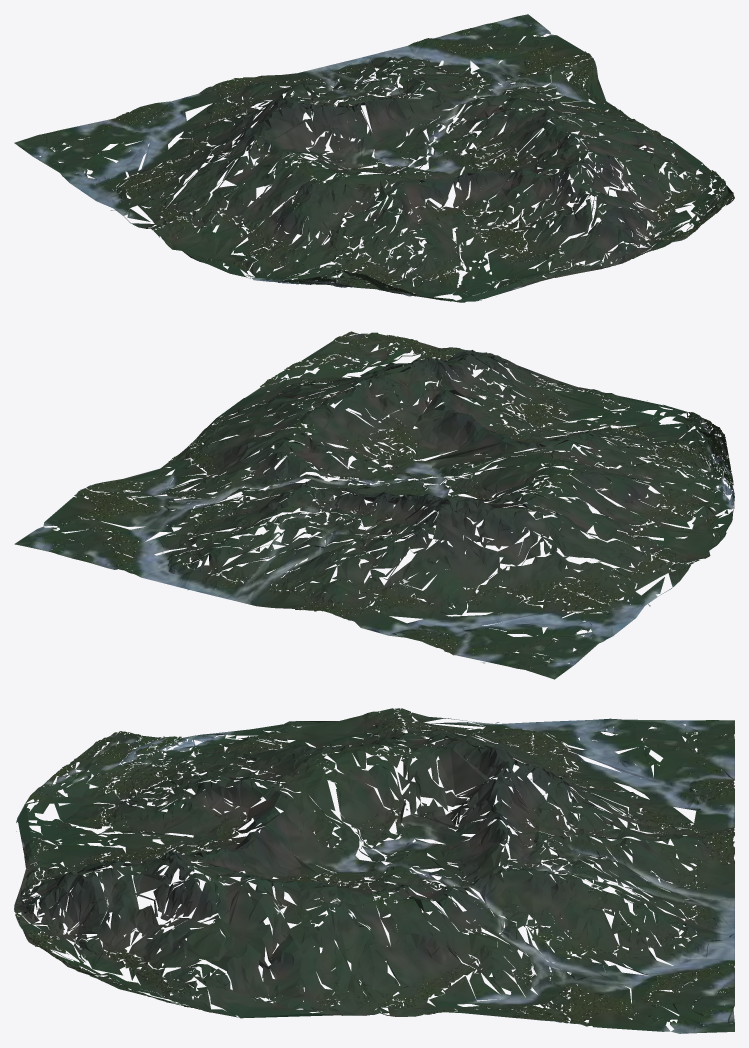
File: terrain-opt.glb
3 renders of one model, top to bottom at view 1: azimuth 30°, elevation 25°; view 2: azimuth 150°, elevation 25°; view 3: azimuth 270°, elevation 25°, orthographic. The views are drawn at different scales.
Visible parts, largest first — view 1: Mesher; view 2: Mesher; view 3: Mesher.
Part boxes in pixels (box(x1,y1,x2,y2)): Mesher: box(14, 14, 734, 302); Mesher: box(14, 331, 734, 679); Mesher: box(14, 708, 734, 1033).
Bounding box in the file's own units: 2 × 0.2298 × 1.93.
Materials: 1 (1 with a texture image).
